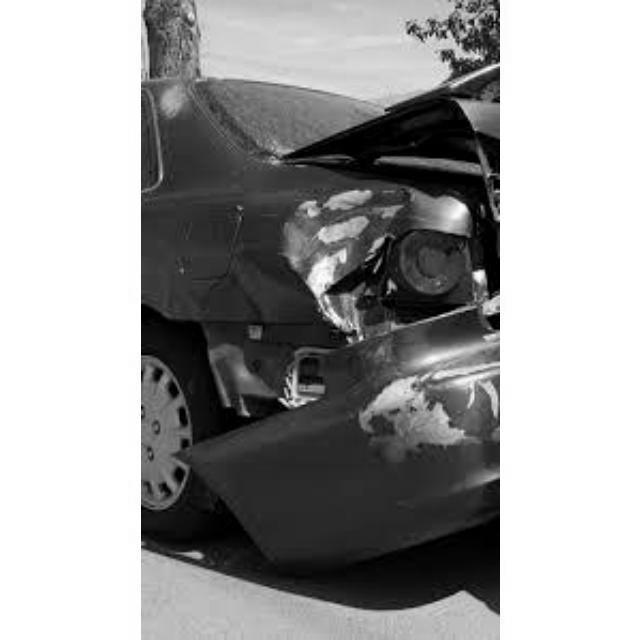boot-dent: (329, 105, 500, 187), (449, 158, 500, 342)
quaterpanel-dent: (149, 183, 433, 326)
rear-bumper-dent: (279, 339, 497, 512)
